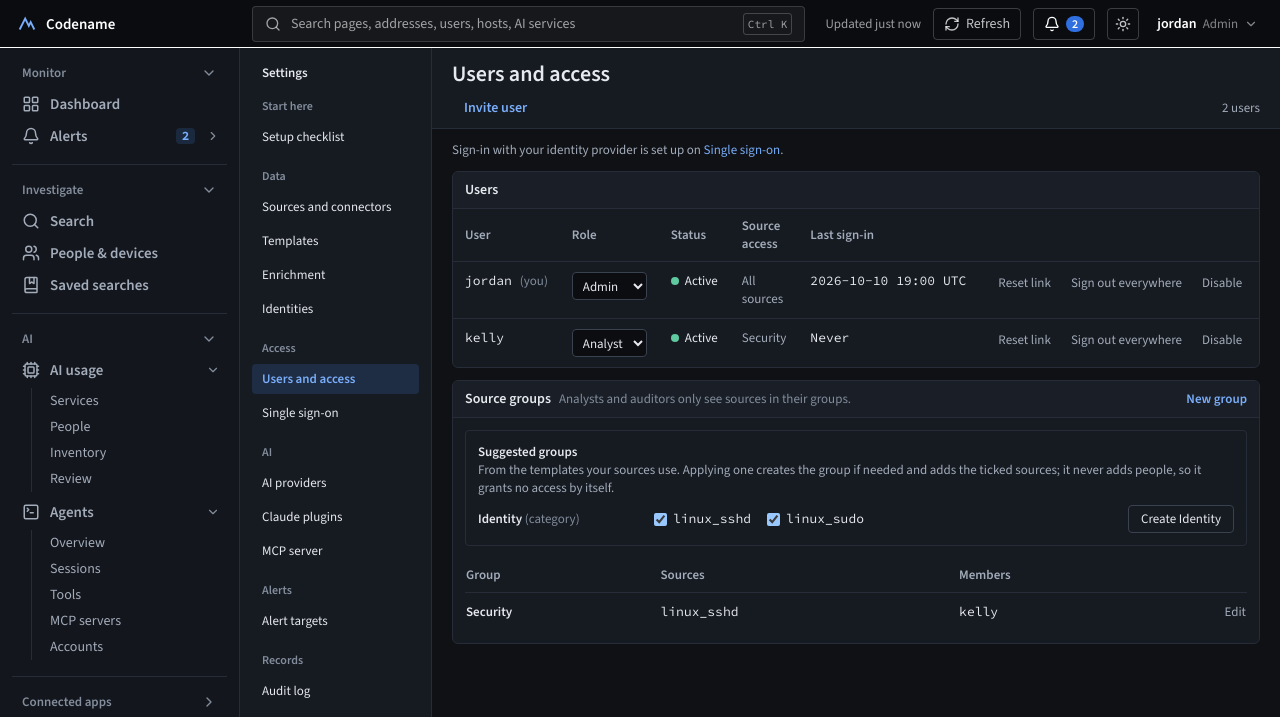
Test case: Source groups › asks before deleting a group
What coordinates should you click on to do the following:
click the button with aria-label "Edit Security"
I would click on:
 (1235, 612)
Its box is left=1224, top=603, right=1246, bottom=621.
(page scrolled)
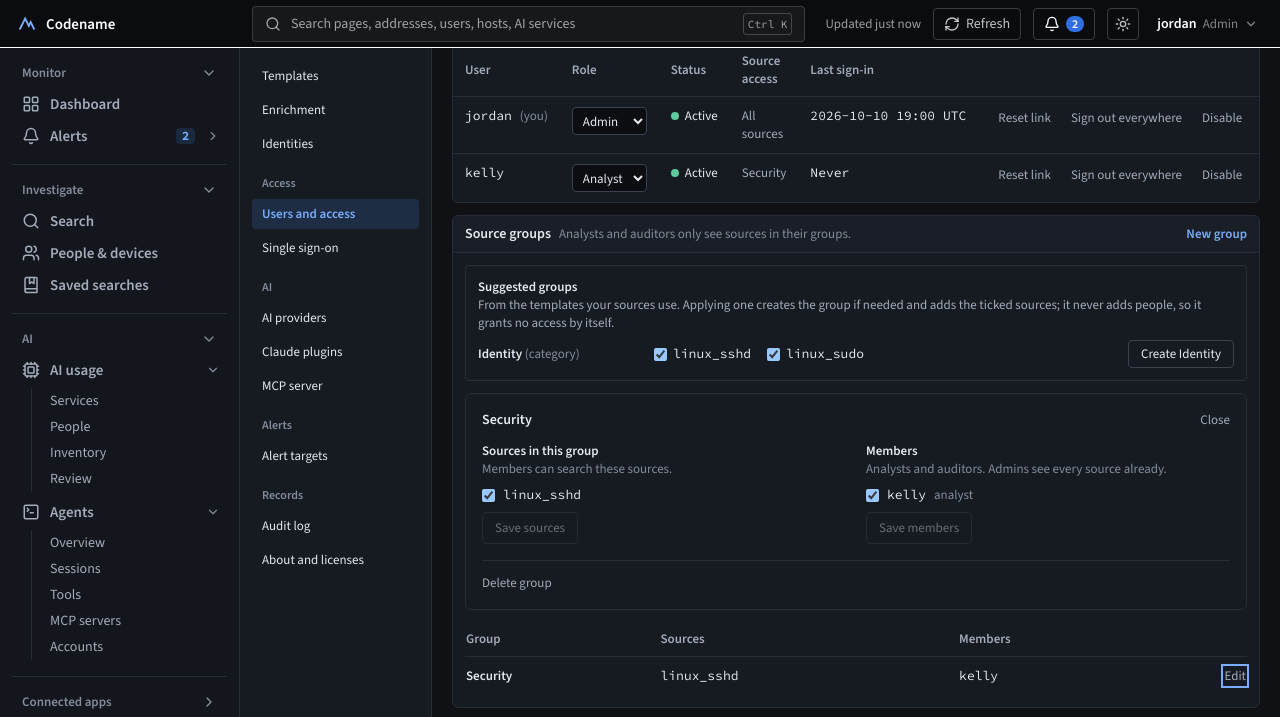
What coordinates should you click on to do the following:
click the button "Delete group"
I would click on:
 (517, 583)
Its box is left=482, top=574, right=552, bottom=592.
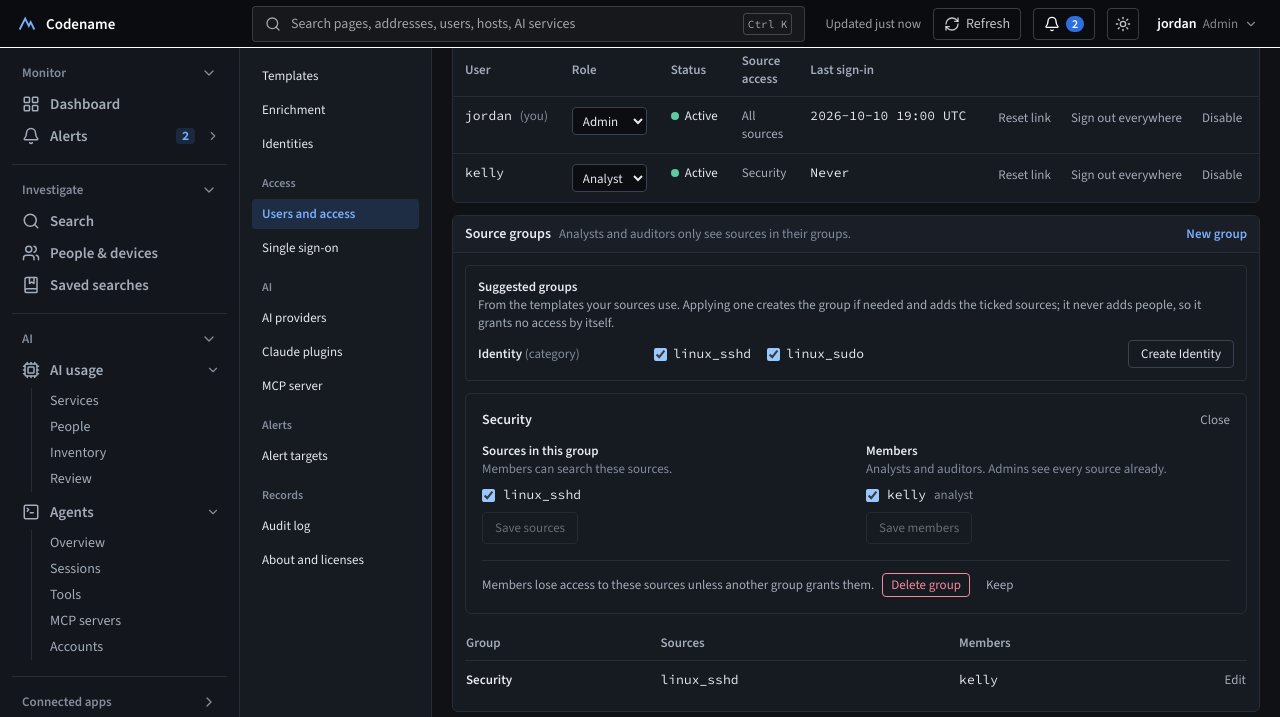
Expected: the text "lose access" is shown, left=482, top=576, right=874, bottom=593
What coordinates should you click on to do the following:
click the button "Delete group"
I would click on:
 (926, 585)
Its box is left=882, top=573, right=970, bottom=597.
(page scrolled)
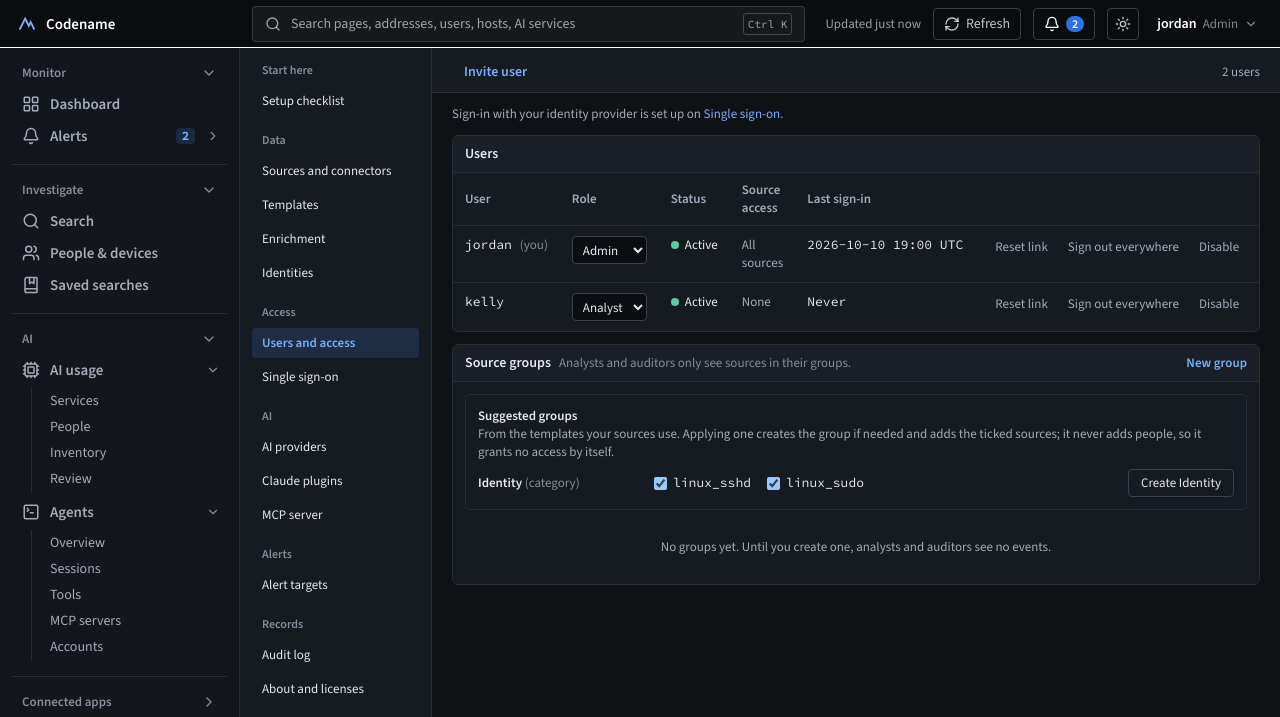
Expected: the text "No groups yet" is shown, left=661, top=538, right=1051, bottom=555
